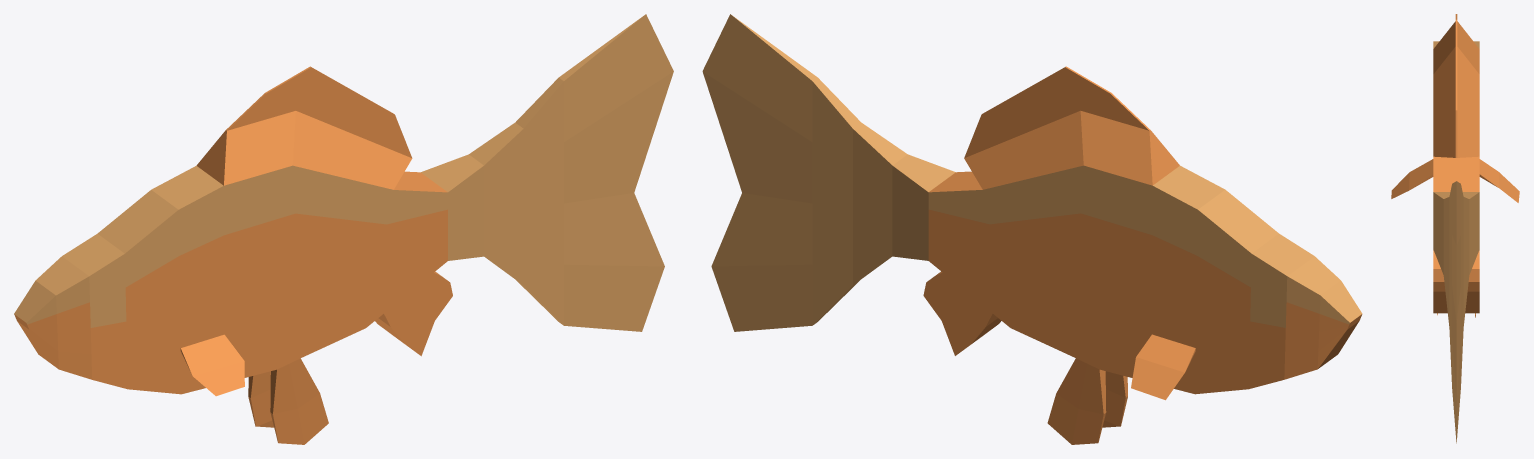
File: Ikan.fbx
3 views of the same model, side by side, from view 1: azimuth 30°, elevation 25°; view 2: azimuth 150°, elevation 25°; view 3: azimuth 270°, elevation 25° (orthographic). The views are drawn at different scales.
Visible parts, largest first — view 1: Ikan; view 2: Ikan; view 3: Ikan.
Part boxes in pixels (box(x1,y1,x2,y2)): Ikan: box(14, 14, 673, 444); Ikan: box(702, 14, 1362, 444); Ikan: box(1391, 14, 1519, 443).
Size of the model in its own units: 87.85 by 46.92 by 17.86.
